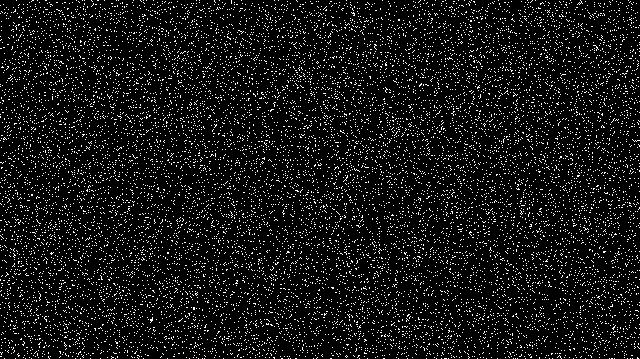pot: (319, 45, 504, 233), (28, 0, 218, 134)
